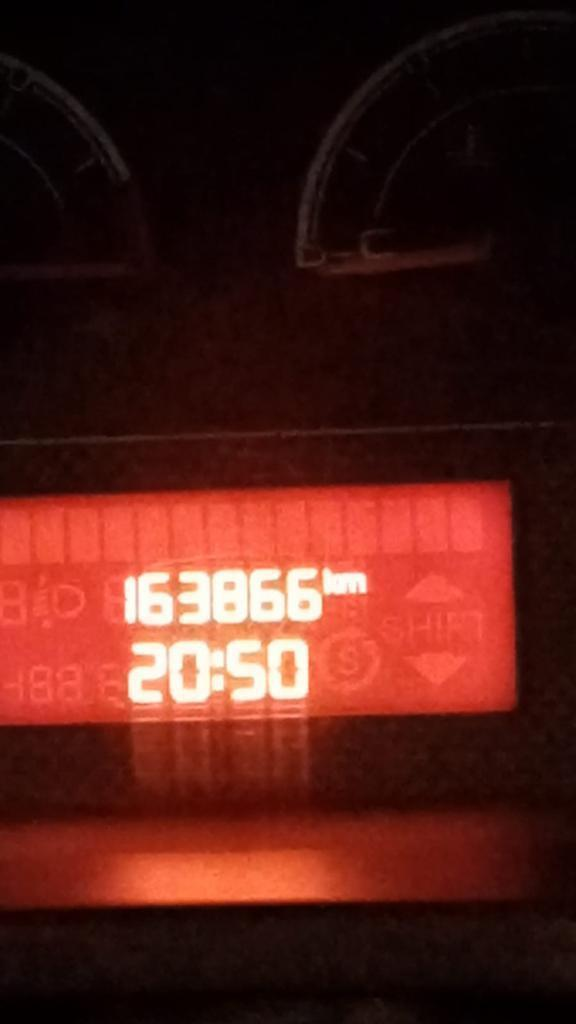0: (268, 637, 309, 703), (168, 639, 210, 703)
1: (121, 569, 137, 629)
2: (128, 639, 167, 705)
3: (177, 567, 210, 625)
5: (225, 636, 268, 703)
6: (138, 569, 175, 627), (286, 565, 323, 622), (250, 566, 285, 624)
8: (212, 566, 247, 627)
X: (340, 571, 368, 598), (211, 647, 225, 693), (322, 564, 339, 599)
odometer: (2, 473, 523, 732)
